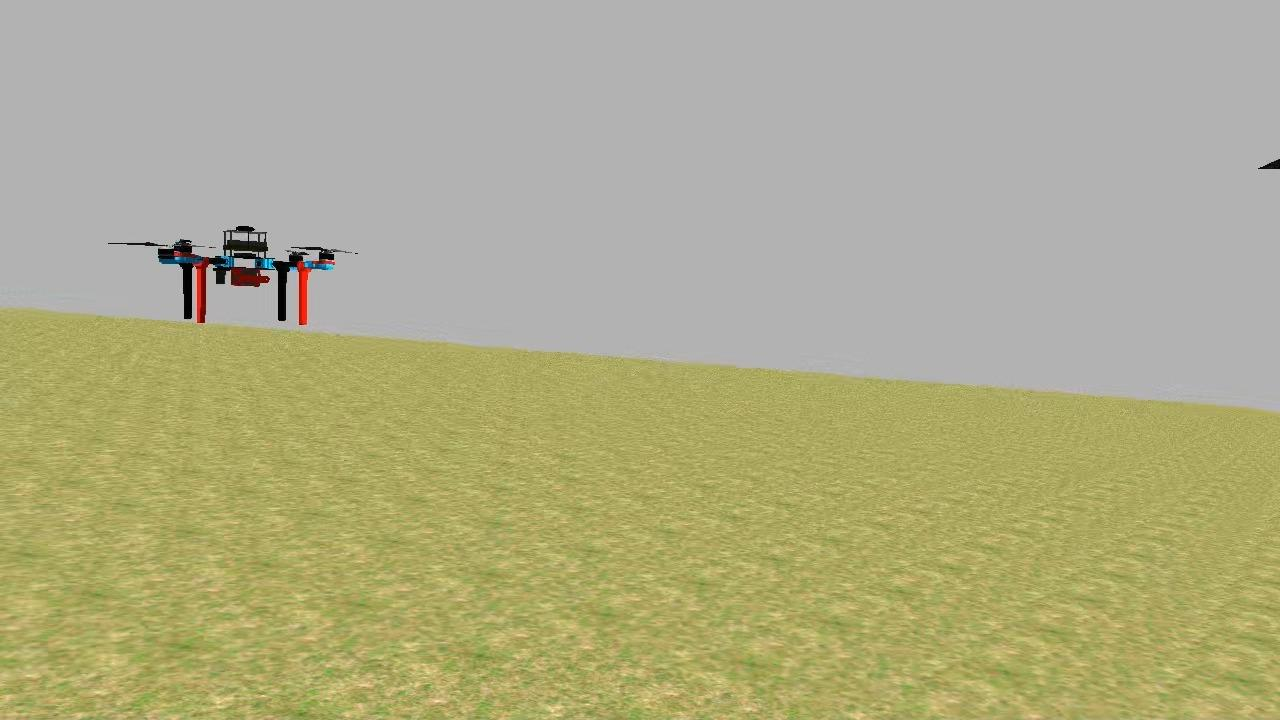UAV: (156, 216, 342, 330)
